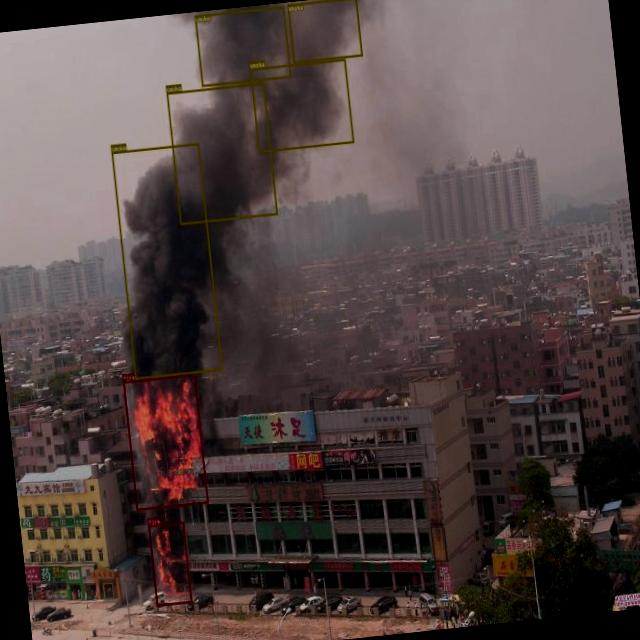fire: (122, 373, 208, 510), (148, 521, 192, 605)
smoke: (111, 142, 222, 379), (166, 82, 277, 225), (250, 58, 354, 152), (194, 5, 291, 86), (286, 0, 362, 62)
